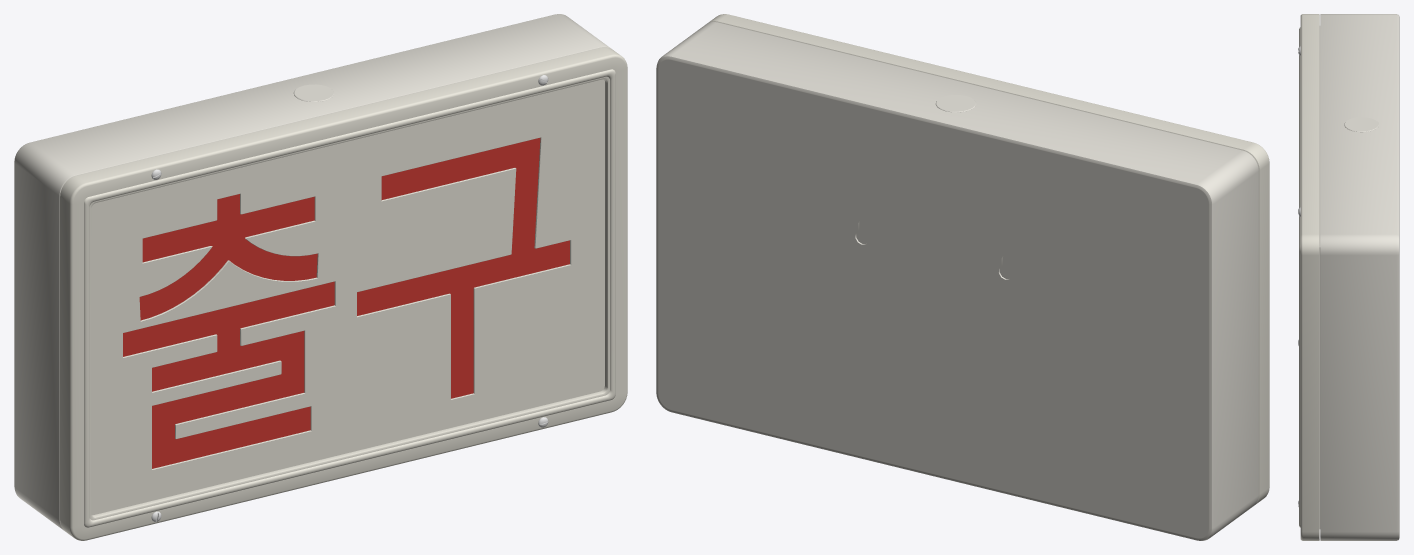
The model's file is Kit_ExitSign.fbx.
3 views of the same model, side by side, from view 1: azimuth 30°, elevation 25°; view 2: azimuth 150°, elevation 25°; view 3: azimuth 270°, elevation 25° (orthographic). The views are drawn at different scales.
Visible parts, largest first — view 1: Kit_ExitSign_LOD0; view 2: Kit_ExitSign_LOD0; view 3: Kit_ExitSign_LOD0.
Part boxes in pixels (<box>): Kit_ExitSign_LOD0: <box>14,14,627,540</box>; Kit_ExitSign_LOD0: <box>656,14,1269,540</box>; Kit_ExitSign_LOD0: <box>1298,14,1399,540</box>.
Size of what is drawn, in the model's own units: 0.346 by 0.2124 by 0.0639.
